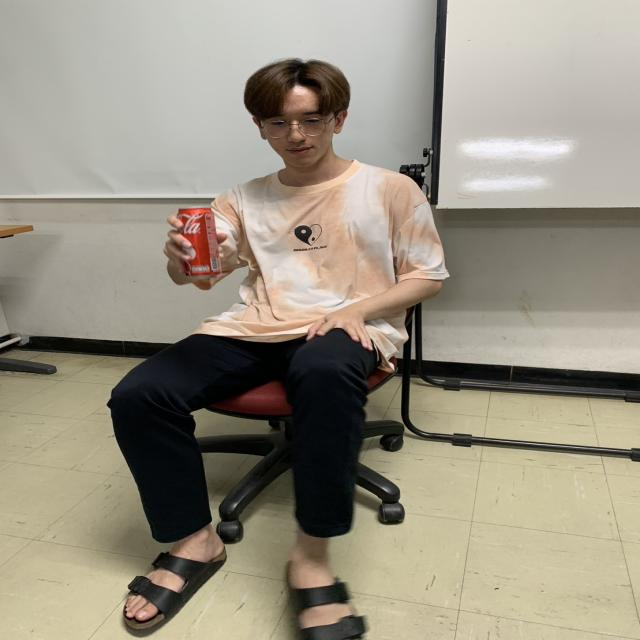can: (176, 205, 222, 278)
